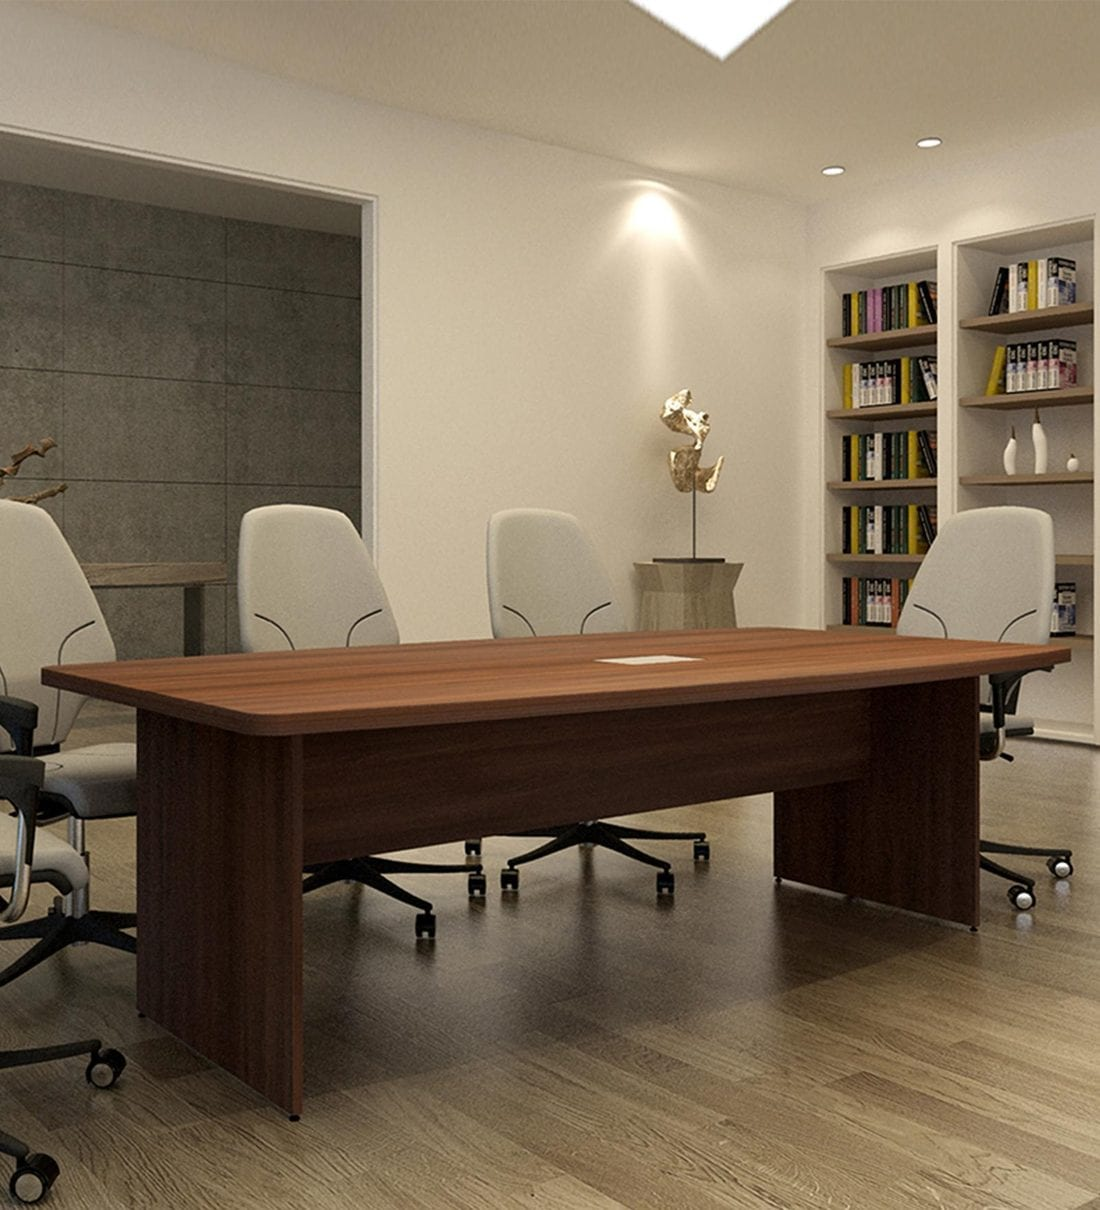conference_table: (42, 626, 1071, 1120)
